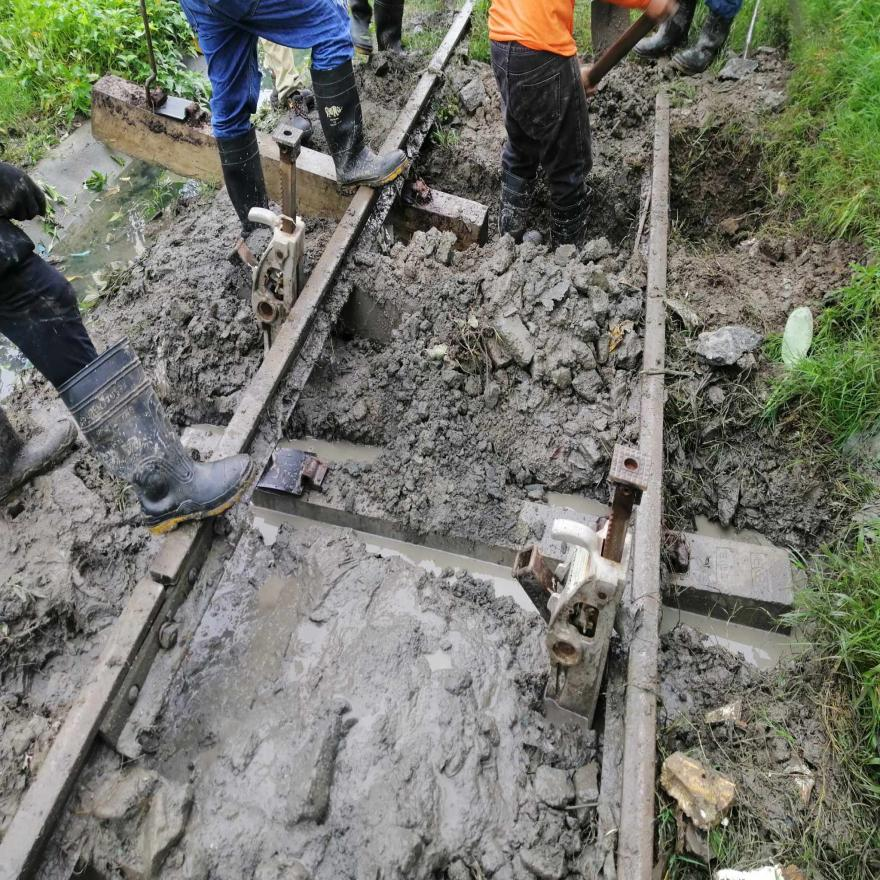railway-gap: (120, 529, 196, 624)
